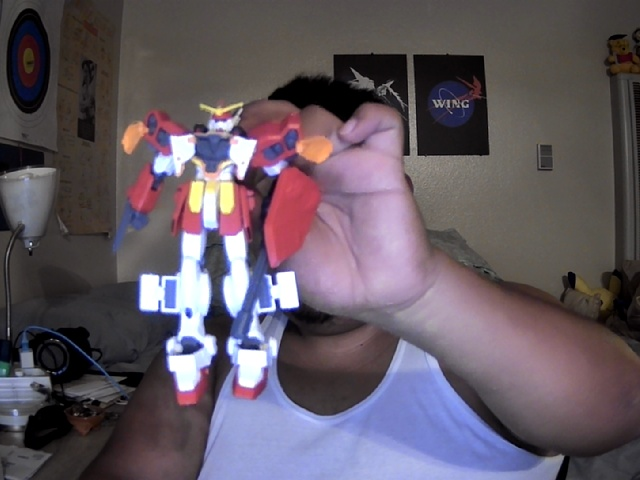Deatharms: (110, 102, 333, 407)
